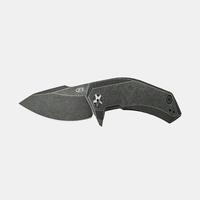knife: (17, 73, 187, 134)
